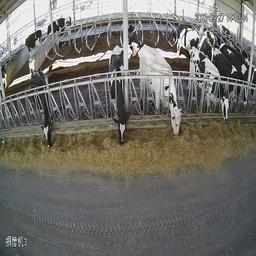cow: (140, 43, 181, 136), (192, 48, 228, 130), (109, 43, 129, 143), (29, 68, 53, 148), (216, 49, 247, 108), (168, 23, 199, 55), (46, 18, 72, 40), (127, 20, 139, 57), (24, 29, 42, 53), (220, 23, 235, 45)
